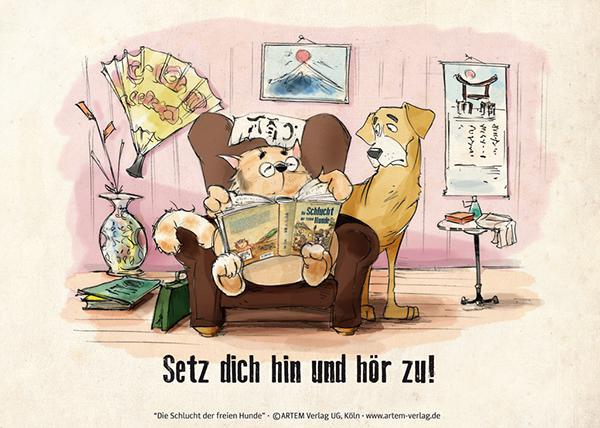cat: (160, 145, 340, 301)
dog: (353, 85, 439, 343)
